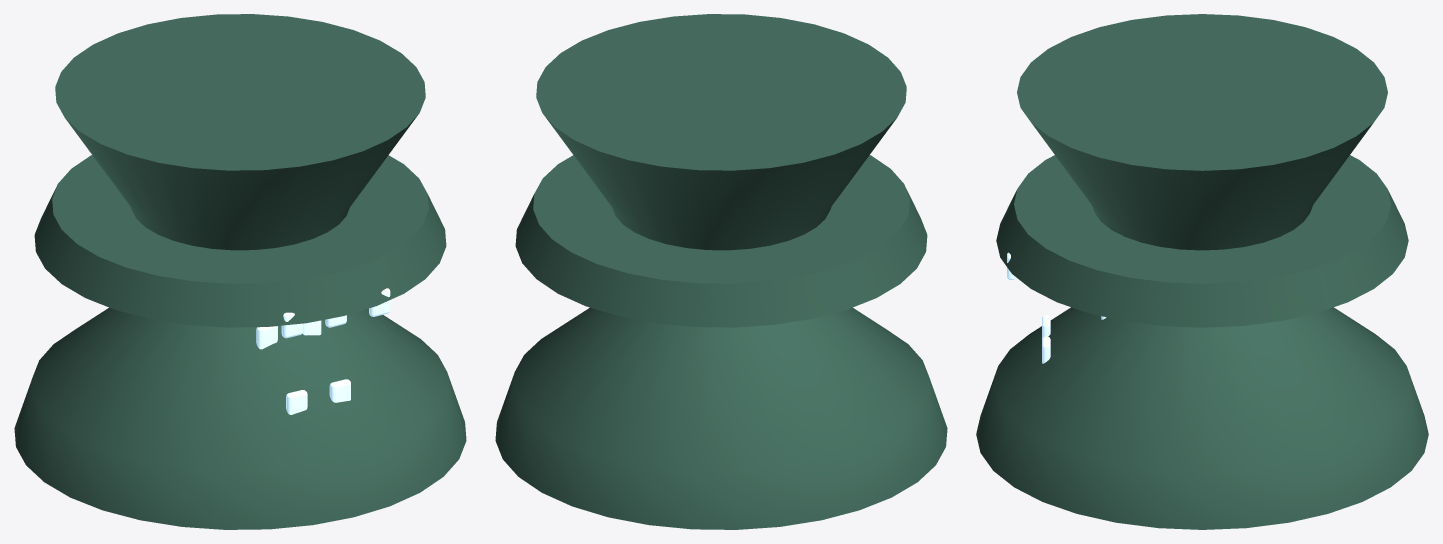
The picture shows the model from 3 angles, left to right: view 1: azimuth 30°, elevation 25°; view 2: azimuth 150°, elevation 25°; view 3: azimuth 270°, elevation 25°; orthographic projection.
Parts seen in each view (by area): view 1: Flared spindle column, Spindle saucer platform; view 2: Flared spindle column, Spindle saucer platform; view 3: Flared spindle column, Spindle saucer platform.
Boxes of the visible parts, x1,y1,x2,y2 form: Flared spindle column: (14, 14, 466, 529); Spindle saucer platform: (34, 155, 446, 327); Flared spindle column: (495, 14, 947, 529); Spindle saucer platform: (515, 155, 927, 327); Flared spindle column: (976, 14, 1428, 529); Spindle saucer platform: (996, 155, 1408, 327).
Bounding box in the file's own units: 1.8 × 1.5 × 1.8.
